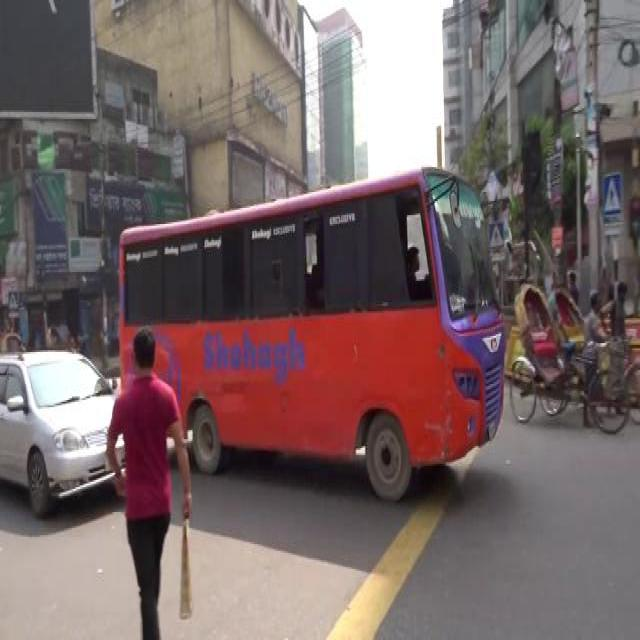bus: (117, 164, 506, 502)
car: (0, 346, 121, 514)
rickshaw: (508, 281, 630, 434), (548, 284, 640, 426)
